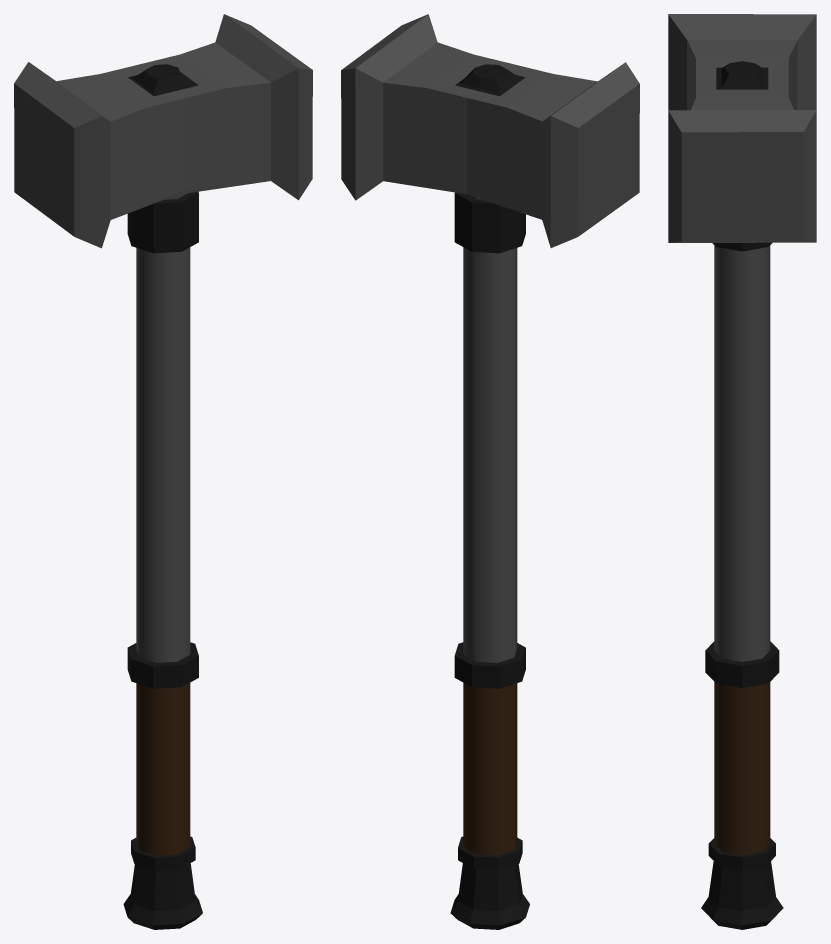
Rendered from Hammer_002.fbx.
The picture shows the model from 3 angles, left to right: view 1: azimuth 30°, elevation 25°; view 2: azimuth 150°, elevation 25°; view 3: azimuth 270°, elevation 25°; orthographic projection.
Visible parts, largest first — view 1: Hammer.002; view 2: Hammer.002; view 3: Hammer.002.
Part boxes in pixels (x1,y1,x2,y2): Hammer.002: (14,14,312,929); Hammer.002: (341,14,639,929); Hammer.002: (668,14,816,929).
Size of the model in its own units: 0.6878 by 2.35 by 0.3698.
